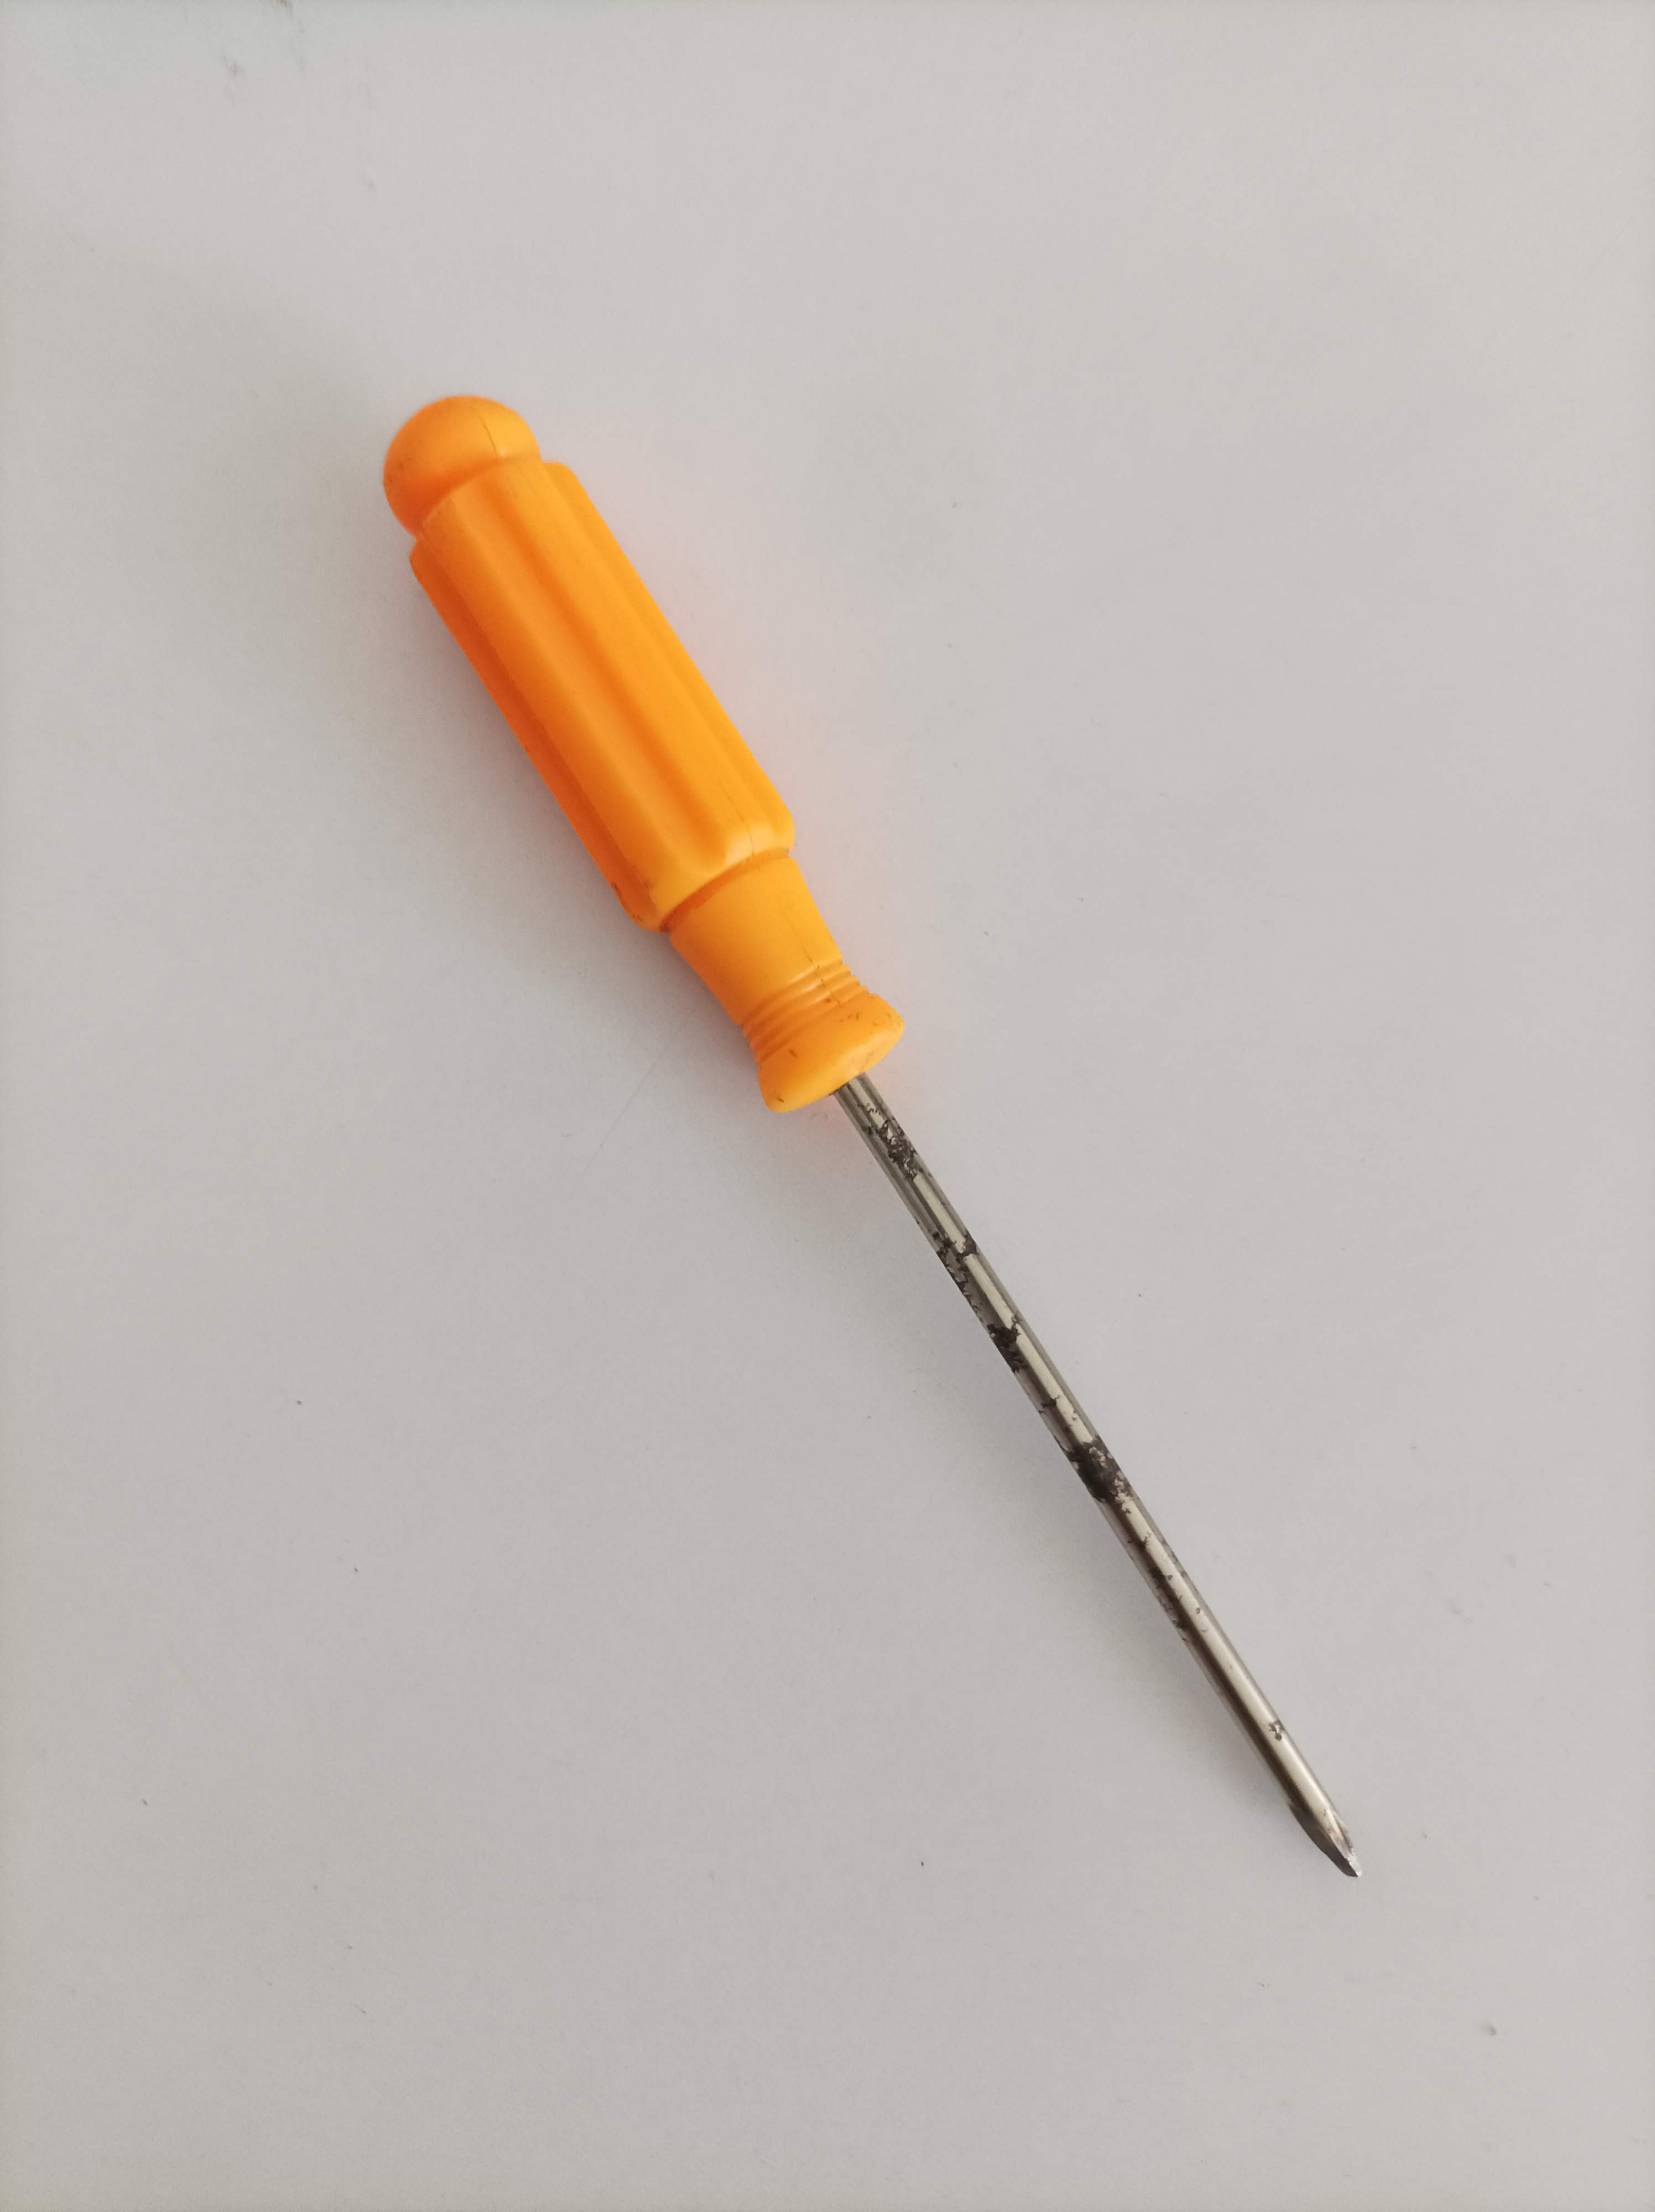screwdriver: (372, 381, 1380, 1904)
